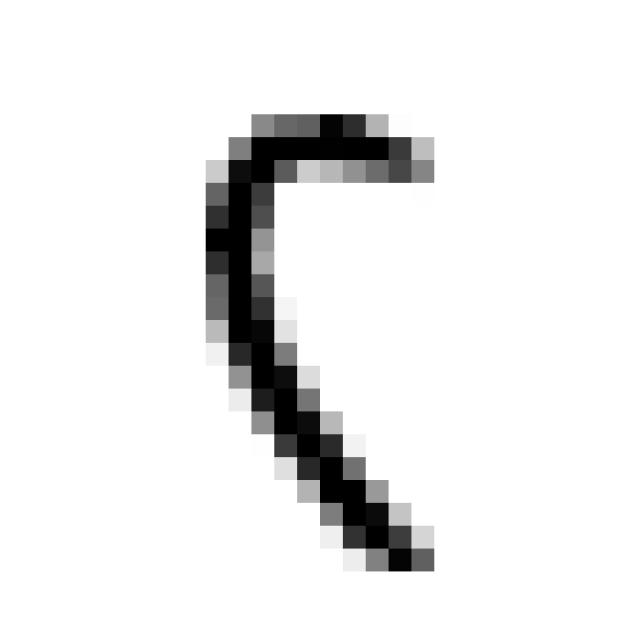2 -two-: (180, 89, 458, 596)
